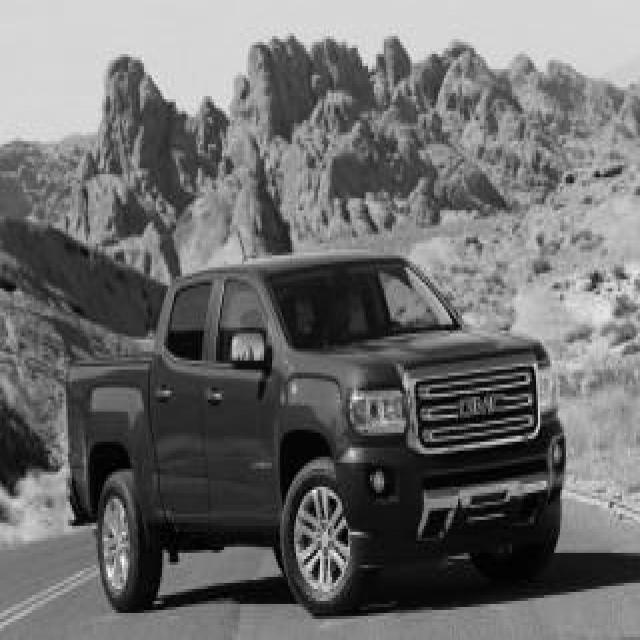Car: (66, 254, 565, 614)
